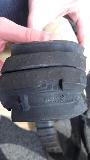temoin:100: (34, 78, 64, 95)
